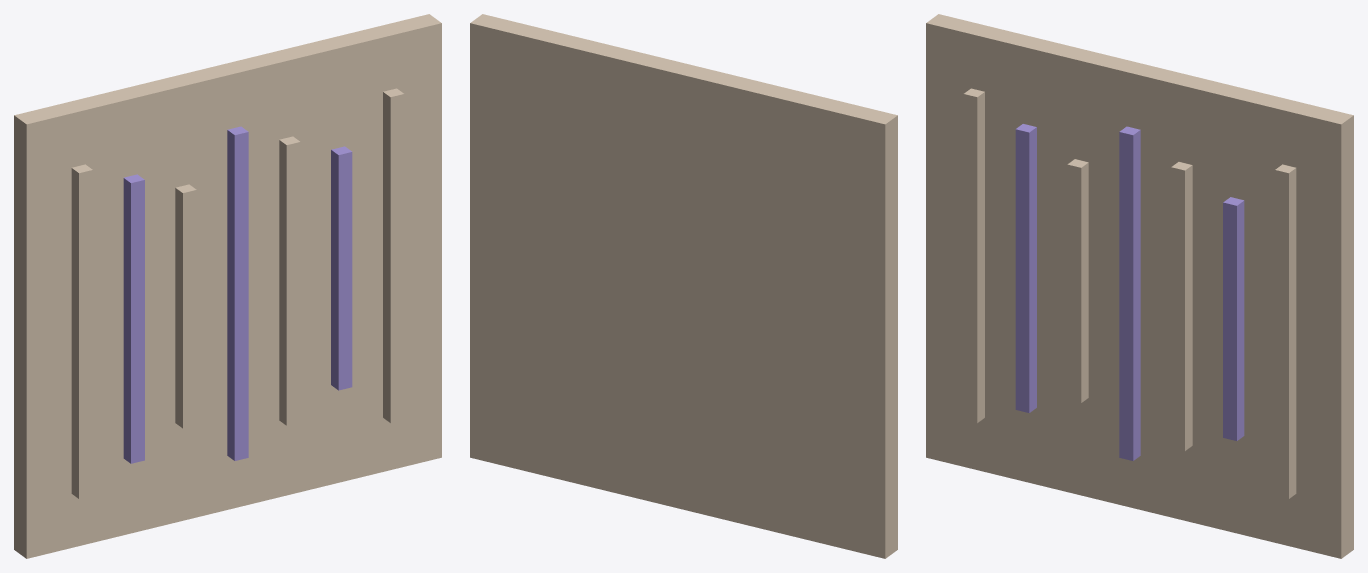
File: plan.gltf
The picture shows the model from 3 angles, left to right: view 1: azimuth 30°, elevation 25°; view 2: azimuth 150°, elevation 25°; view 3: azimuth 330°, elevation 25°; orthographic projection.
Parts seen in each view (by area): view 1: paper, route_3, route_6, route_0, route_4, route_1, route_2, route_5; view 2: paper; view 3: paper, route_3, route_0, route_6, route_1, route_4, route_5, route_2.
Boxes of the visible parts, left/top/right/bottom form: paper: left=14, top=14, right=441, bottom=558; route_3: left=227, top=126, right=248, bottom=460; route_6: left=383, top=88, right=404, bottom=422; route_0: left=71, top=164, right=92, bottom=498; route_4: left=279, top=136, right=300, bottom=425; route_1: left=123, top=174, right=144, bottom=463; route_2: left=175, top=184, right=196, bottom=428; route_5: left=331, top=146, right=352, bottom=390; paper: left=470, top=14, right=897, bottom=558; paper: left=926, top=14, right=1353, bottom=558; route_3: left=1119, top=126, right=1140, bottom=460; route_0: left=963, top=88, right=984, bottom=422; route_6: left=1275, top=164, right=1296, bottom=498; route_1: left=1015, top=124, right=1036, bottom=412; route_4: left=1171, top=162, right=1192, bottom=450; route_5: left=1223, top=197, right=1244, bottom=440; route_2: left=1067, top=159, right=1088, bottom=402.
Bounding box in the file's own units: 0.48 × 0.48 × 0.04.
